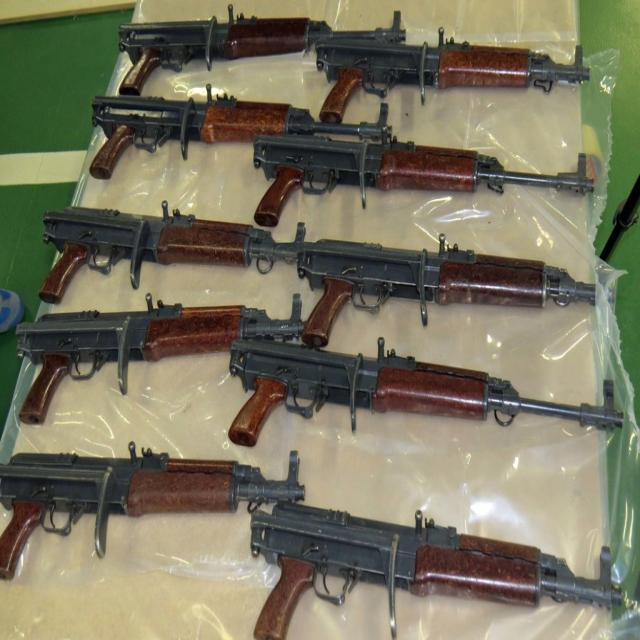weapon: (0, 3, 623, 639)
